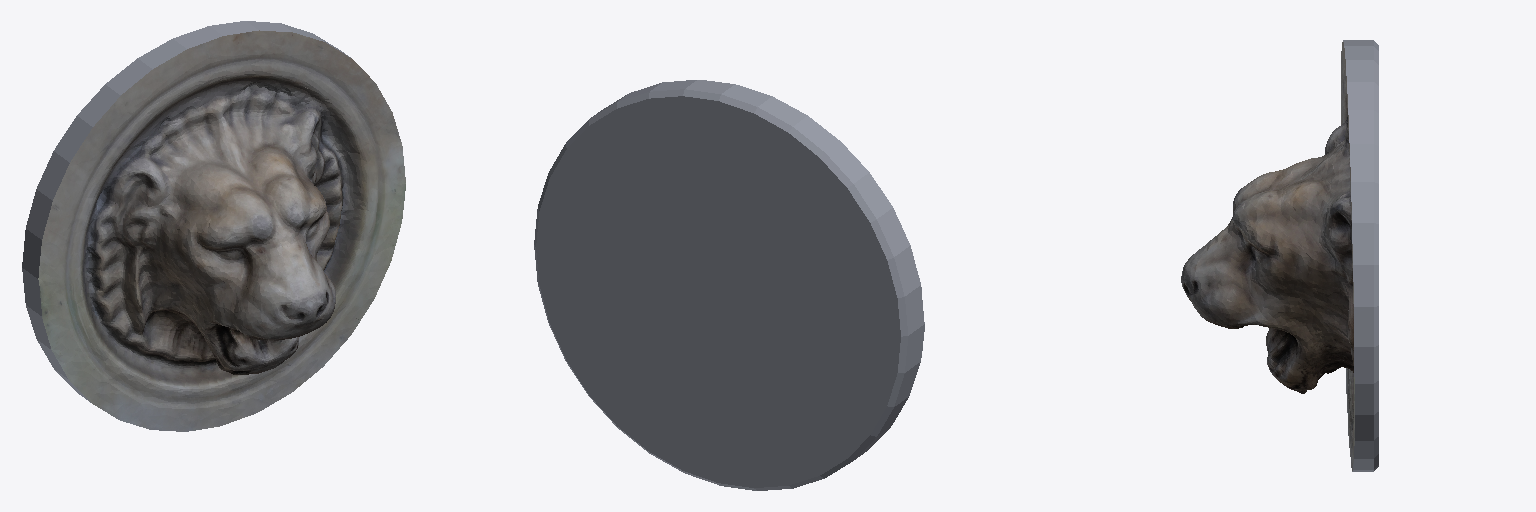
3 views of the same model, side by side, from view 1: azimuth 30°, elevation 25°; view 2: azimuth 150°, elevation 25°; view 3: azimuth 270°, elevation 25° (orthographic).
Parts seen in each view (by area): view 1: bm-lion-fount; view 2: bm-lion-fount; view 3: bm-lion-fount.
Boxes of the visible parts, x1,y1,x2,y2 form: bm-lion-fount: [22, 21, 405, 431]; bm-lion-fount: [534, 80, 924, 490]; bm-lion-fount: [1181, 40, 1378, 471].
Size of the model in its own units: 1.61 by 1.61 by 0.7388.
Materials: 2 (1 with a texture image).